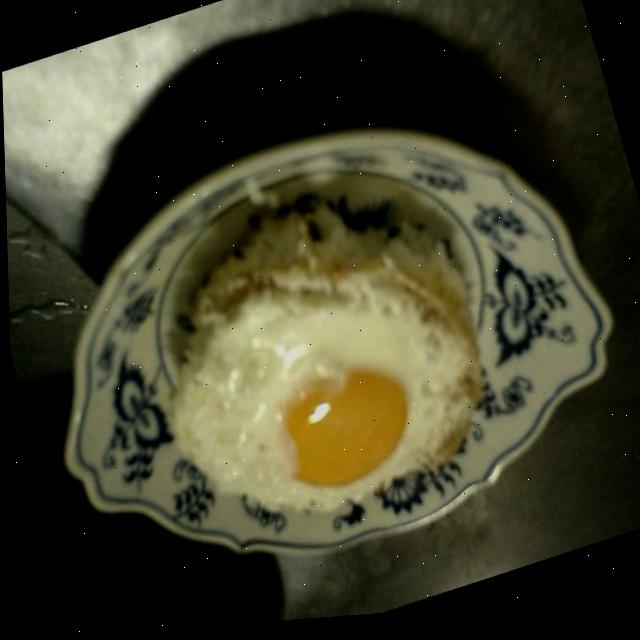鸡蛋料理: (2, 49, 640, 640)
